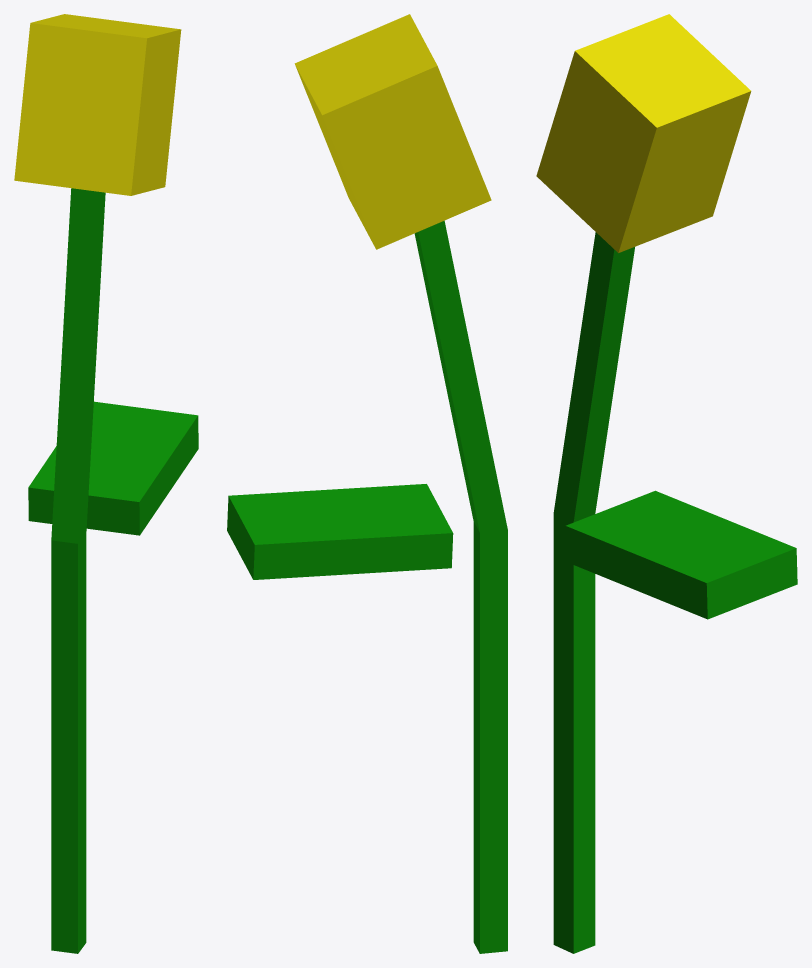
File: Flower.000.fbx
3 views of the same model, side by side, from view 1: azimuth 30°, elevation 25°; view 2: azimuth 150°, elevation 25°; view 3: azimuth 270°, elevation 25° (orthographic). The views are drawn at different scales.
Parts seen in each view (by area): view 1: Flower.000; view 2: Flower.000; view 3: Flower.000.
Boxes of the visible parts, box(x1,y1,x2,y2) form: Flower.000: box(14, 14, 198, 953); Flower.000: box(227, 14, 507, 953); Flower.000: box(536, 14, 797, 953).
Size of the model in its own units: 9.13 by 35.09 by 8.89.
